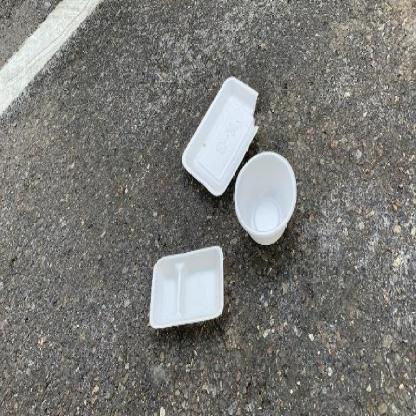Glass Cup: (182, 76, 259, 196), (182, 76, 258, 195), (150, 245, 224, 330), (149, 246, 224, 329), (234, 152, 298, 246), (234, 152, 297, 245)
